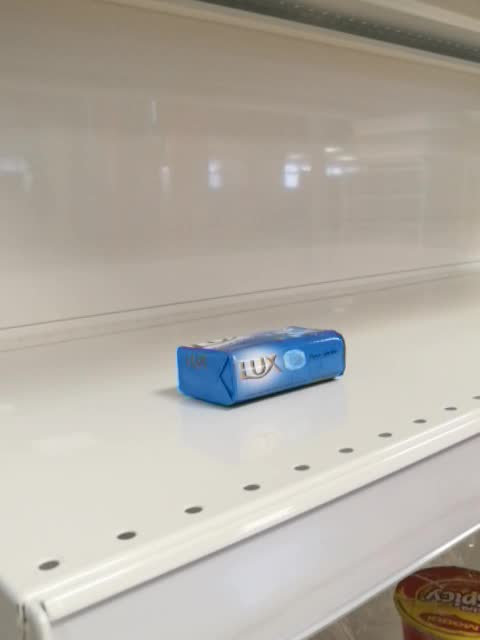soap: (176, 325, 347, 408)
